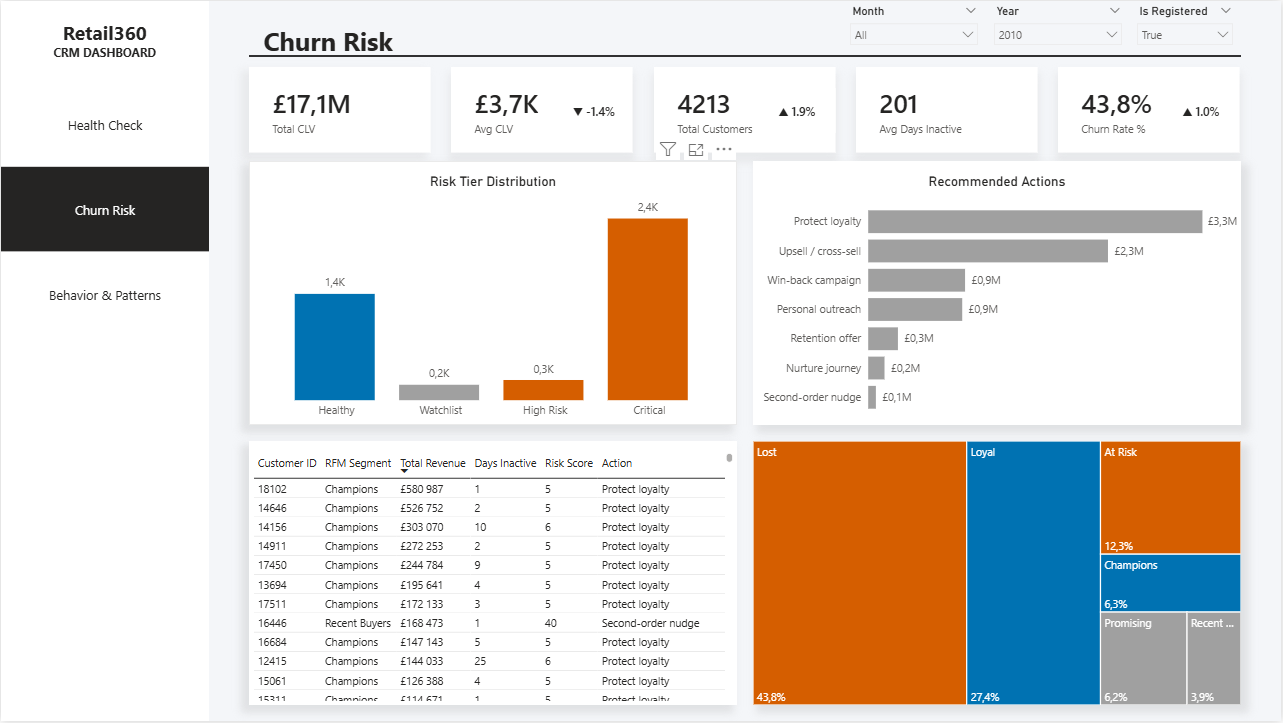

The dashboard page shown, as its layout file describes it:
{"tool":"powerbi","page":{"name":"Churn Risk","canvas":[1600,900],"ordinal":1},"visuals":[{"type":"shape","box":[0,0,260,900],"z":0},{"type":"pageNavigator","box":[0,101.1,260,320],"z":1000},{"type":"textbox","box":[22.2,17.8,214.4,84.4],"z":2000},{"type":"shape","box":[310,14.1,1240,110],"z":3000},{"type":"textbox","box":[278.6,22.6,260,60],"z":4000},{"type":"cardVisual","fields":{"Data":["_Mensures.Total CLV"]},"box":[310,82.9,227.1,107.1],"z":5000},{"type":"cardVisual","fields":{"Data":["_Mensures.Avg CLV"]},"box":[562.9,82.9,227.1,107.1],"z":6000},{"type":"cardVisual","fields":{"Data":["_Mensures.Total Customers"]},"box":[815.7,82.9,227.1,107.1],"z":7000},{"type":"cardVisual","fields":{"Data":["_Mensures.Avg Days Inactive"]},"box":[1068.6,82.9,227.1,107.1],"z":8000},{"type":"cardVisual","fields":{"Data":["_Mensures.Churn Rate %"]},"box":[1321.4,82.9,227.1,107.1],"z":9000},{"type":"slicer","fields":{"Values":["Calendar.Year"]},"box":[1231.4,0,180,74.3],"z":10000},{"type":"slicer","fields":{"Values":["Calendar.Month"]},"box":[1051.4,0,180,74.3],"z":11000},{"type":"columnChart","title":"Risk Tier Distribution","fields":{"Category":["Customers.Risk Tier"],"Y":["_Mensures.Total Customers"]},"box":[310,200,610,330],"z":12000},{"type":"barChart","title":"Recommended Actions","fields":{"Category":["Customers.Recommended Action"],"Y":["_Mensures.Total Revenue"]},"box":[940,200,610,330],"z":13000},{"type":"treemap","title":"Segment Treemap","fields":{"Group":["Customer Segments.RFM Segment"],"Values":["_Mensures.Percent of Customers"]},"box":[940,550,610,330],"z":14000},{"type":"tableEx","title":"Churn Risk Table","fields":{"Values":["Customers.Customer ID","Customer Segments.RFM Segment","Customers.Total Revenue (Lifetime)","Customers.Days Inactive","Customers.Risk Score (0-100)","Customers.Recommended Action"]},"box":[310,550,610,330],"z":15000},{"type":"slicer","fields":{"Values":["Customers.Is Registered"]},"box":[1410,0,140,74],"z":16000},{"type":"cardVisual","fields":{"Data":["_Mensures.CLV MoM %"]},"box":[692.9,108.6,97.1,55.7],"z":17000},{"type":"cardVisual","fields":{"Data":["_Mensures.Customers MoM %"]},"box":[945.7,108.6,97.1,55.7],"z":18000},{"type":"cardVisual","fields":{"Data":["_Mensures.Churn MoM %"]},"box":[1451.4,108.6,97.1,55.7],"z":19000}]}

Visuals, with their boxes on the page's 1600x900 design canvas (x1, y1, x2, y2). These are canvas units, not pixel positions in the 1283x723 screenshot, which may show the page scaled, cropped or inside an application window:
shape: <box>0,0,260,900</box>
pageNavigator: <box>0,101,260,421</box>
textbox: <box>22,18,237,102</box>
shape: <box>310,14,1550,124</box>
textbox: <box>279,23,539,83</box>
cardVisual - _Mensures.Total CLV: <box>310,83,537,190</box>
cardVisual - _Mensures.Avg CLV: <box>563,83,790,190</box>
cardVisual - _Mensures.Total Customers: <box>816,83,1043,190</box>
cardVisual - _Mensures.Avg Days Inactive: <box>1069,83,1296,190</box>
cardVisual - _Mensures.Churn Rate %: <box>1321,83,1548,190</box>
slicer - Calendar.Year: <box>1231,0,1411,74</box>
slicer - Calendar.Month: <box>1051,0,1231,74</box>
"Risk Tier Distribution" columnChart: <box>310,200,920,530</box>
"Recommended Actions" barChart: <box>940,200,1550,530</box>
"Segment Treemap" treemap: <box>940,550,1550,880</box>
"Churn Risk Table" tableEx: <box>310,550,920,880</box>
slicer - Customers.Is Registered: <box>1410,0,1550,74</box>
cardVisual - _Mensures.CLV MoM %: <box>693,109,790,164</box>
cardVisual - _Mensures.Customers MoM %: <box>946,109,1043,164</box>
cardVisual - _Mensures.Churn MoM %: <box>1451,109,1548,164</box>
